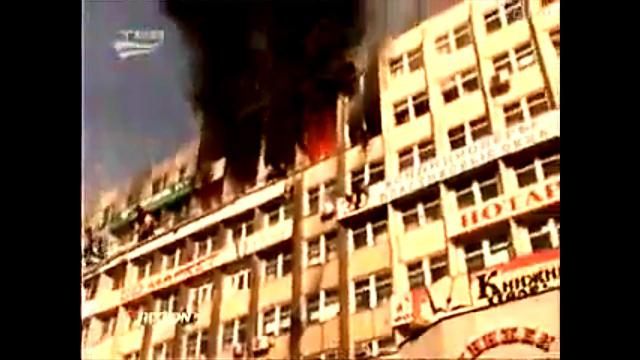fire: (308, 127, 337, 159)
